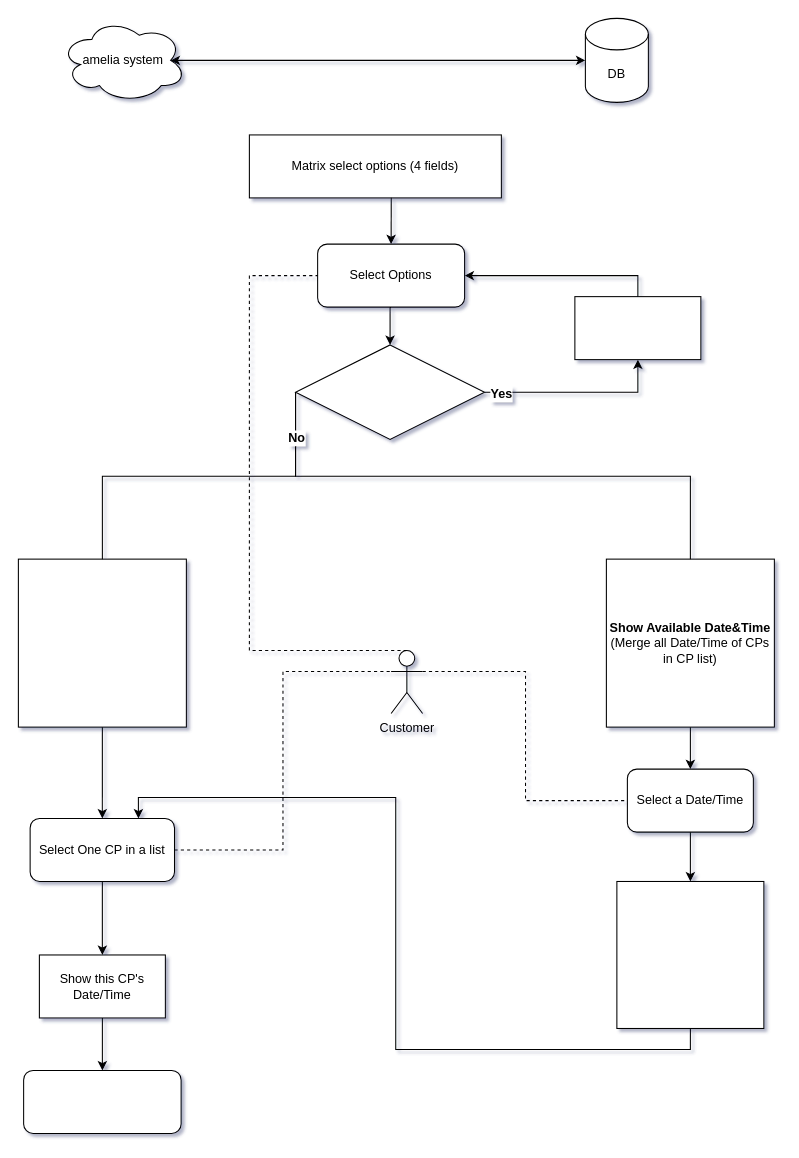
This 799x1158 diagram has some shape labels left out. Each missing label, with the centre of its shape:
Alert "Select All mandatory fields": pixel 637 328
Click Continue Button: pixel 102 1101
Is there any blank options: pixel 390 391
Show Available CP list ( All CPs who are matched with matrix conditions ): pixel 101 642
Show Available CP list (By Matrix Options and Date/Time select): pixel 690 954
